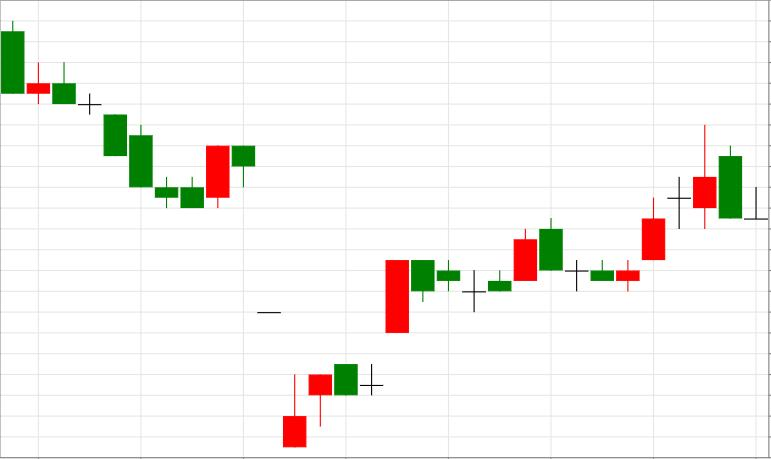shooting_star_fall: (616, 126, 716, 292)
